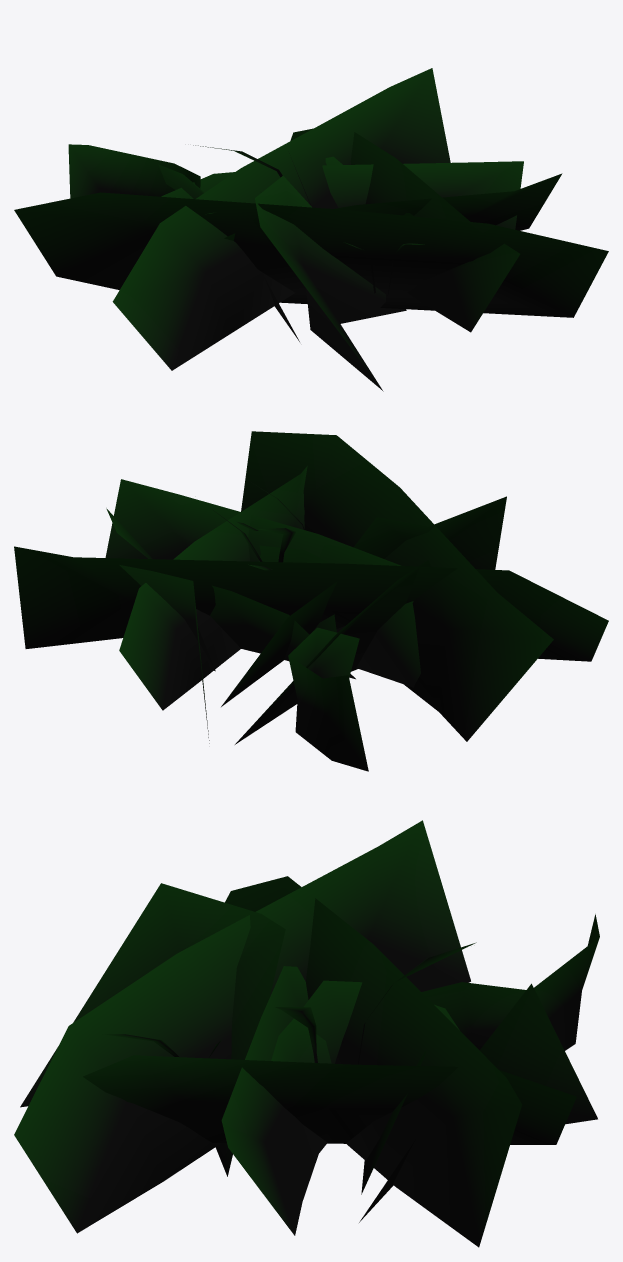
The model's file is DryPlantsRHEP_B 01b.fbx.
3 views of the same model, one above another, from view 1: azimuth 30°, elevation 25°; view 2: azimuth 150°, elevation 25°; view 3: azimuth 270°, elevation 25° (orthographic). The views are drawn at different scales.
Visible parts, largest first — view 1: DPRHEPB01b_LOD0; view 2: DPRHEPB01b_LOD0; view 3: DPRHEPB01b_LOD0.
Part boxes in pixels (box(x1,y1,x2,y2)): DPRHEPB01b_LOD0: box(14, 68, 608, 391); DPRHEPB01b_LOD0: box(14, 431, 608, 771); DPRHEPB01b_LOD0: box(14, 820, 599, 1247).
Size of what is drawn, in the model's own units: 1.95 by 0.8509 by 1.65.
